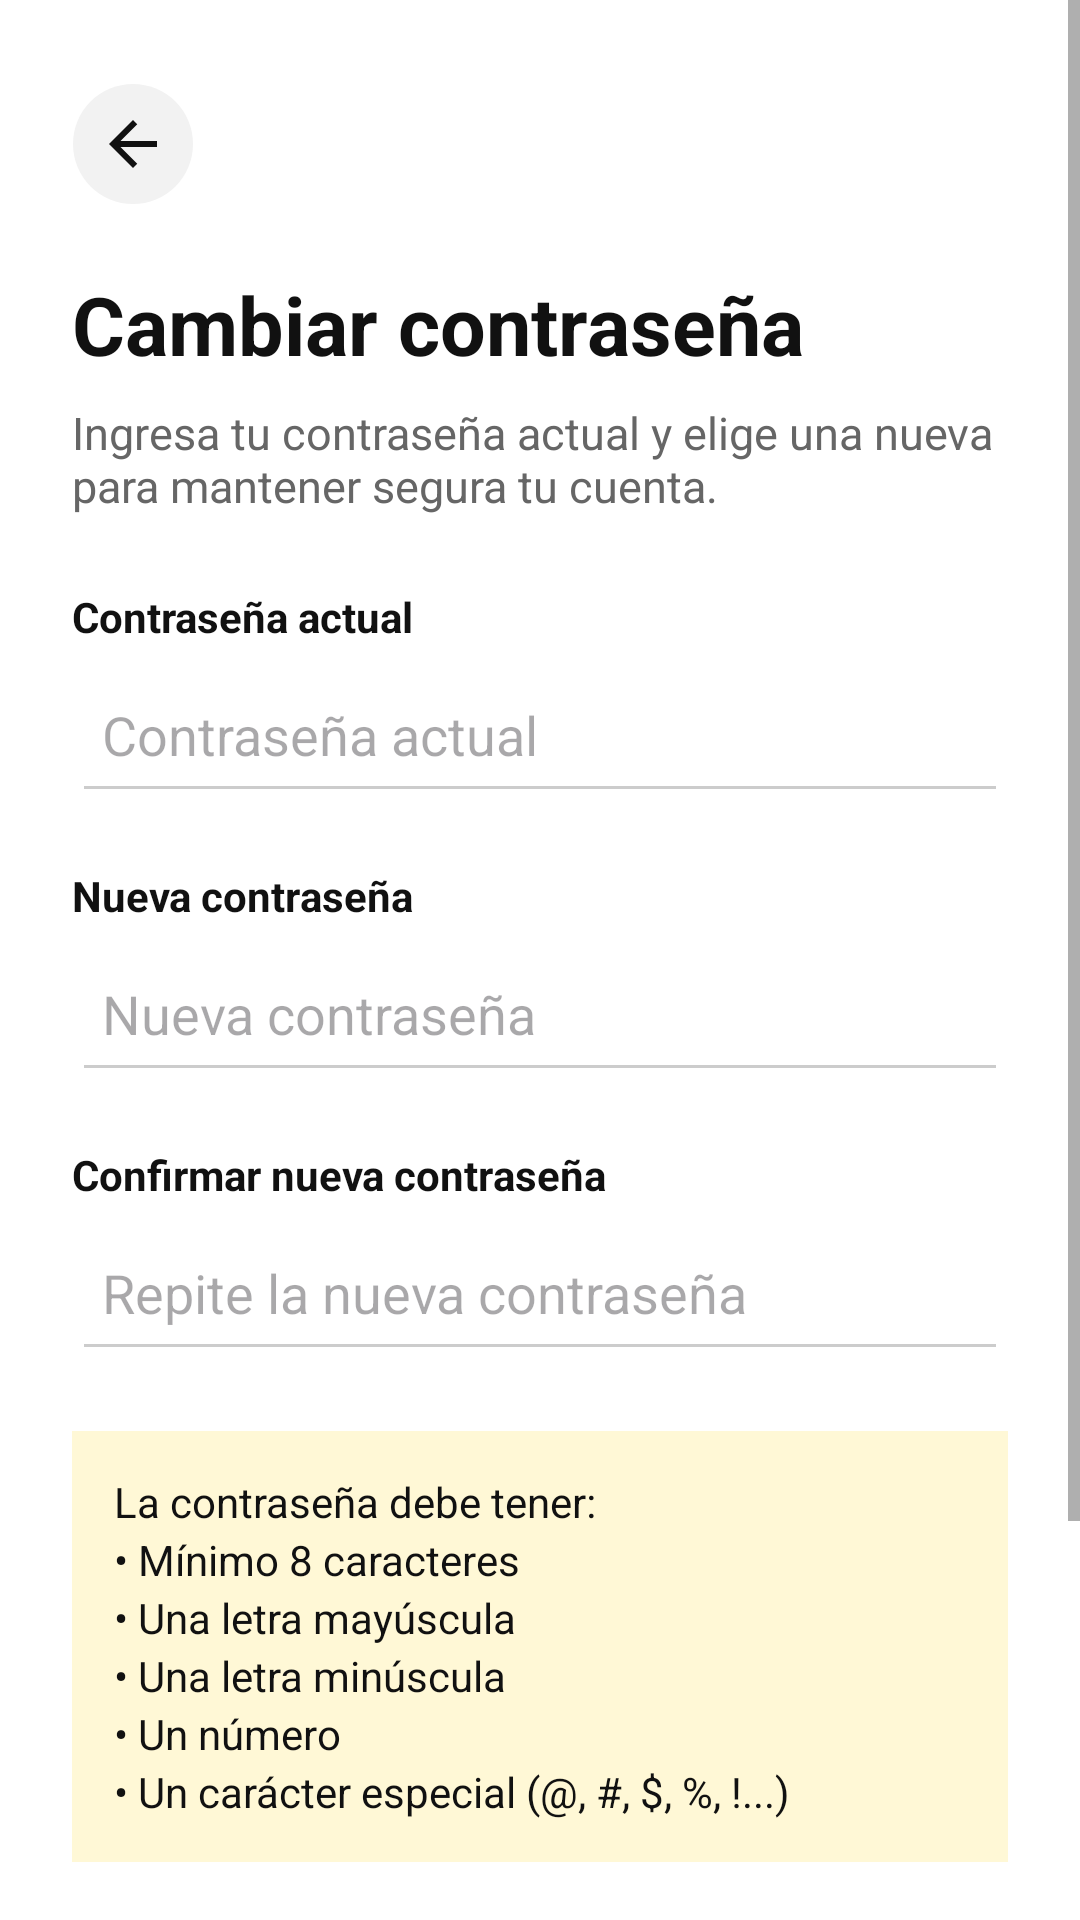

Icons on this 1080x1920 Android screen, each with the point to tap as [x,y]:
Regresar: [133,144]
